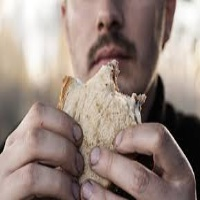ring: (21, 162, 81, 200), (82, 173, 117, 198)
